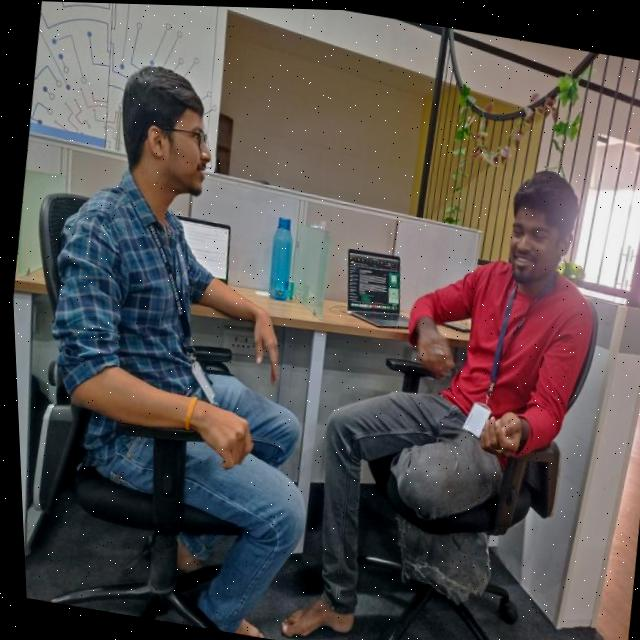id_card: (105, 193, 243, 408), (453, 269, 535, 448)
